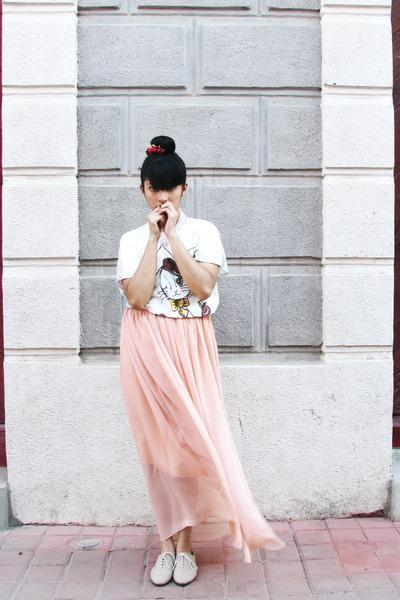shirt: (107, 218, 227, 320)
shoe: (151, 548, 196, 582)
skirt: (116, 302, 284, 561)
